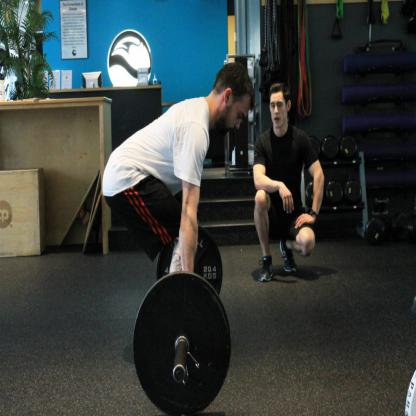Barbell: (127, 267, 236, 416)
